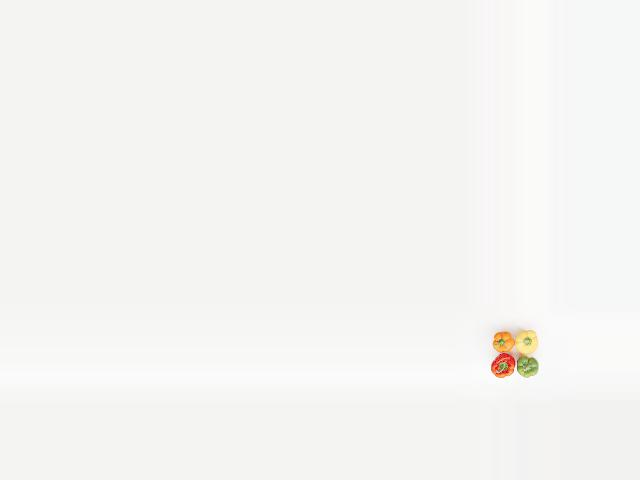bell_pepper: (511, 353, 545, 379)
